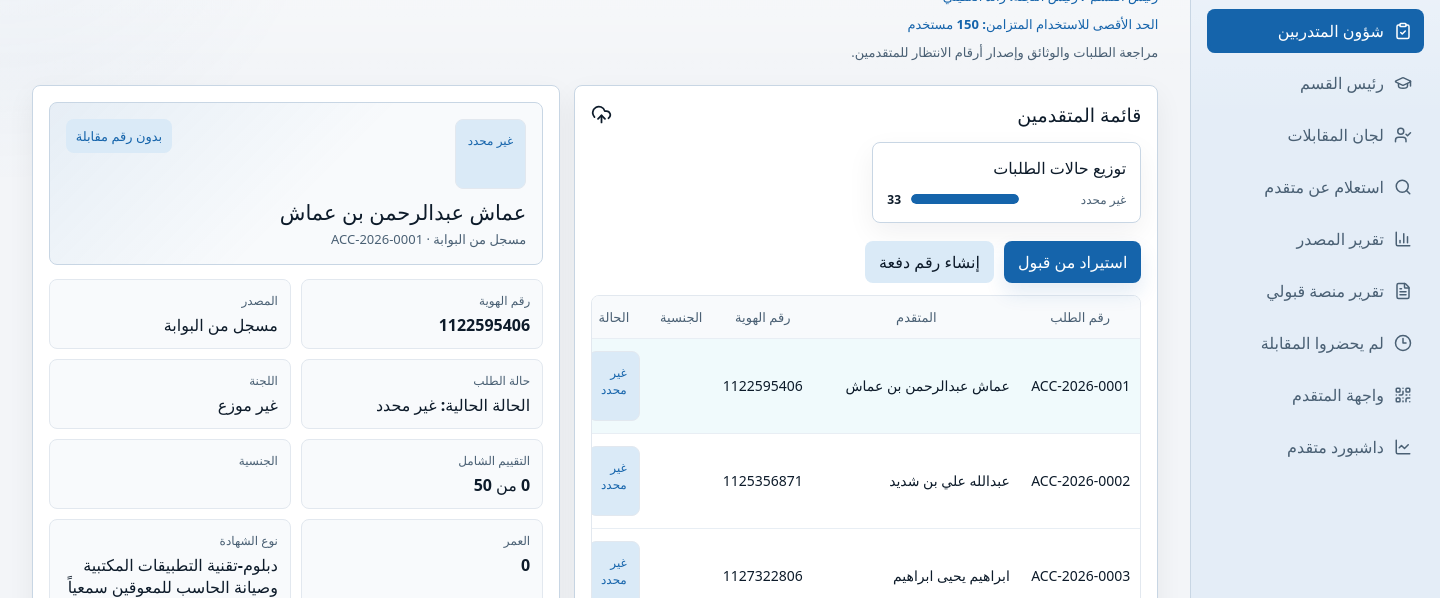
Test case: Interview management system › lets the committee edit applicant data before approving
Click the button "لجان المقابلات" at (1316, 135), box [1207,113,1424,157]
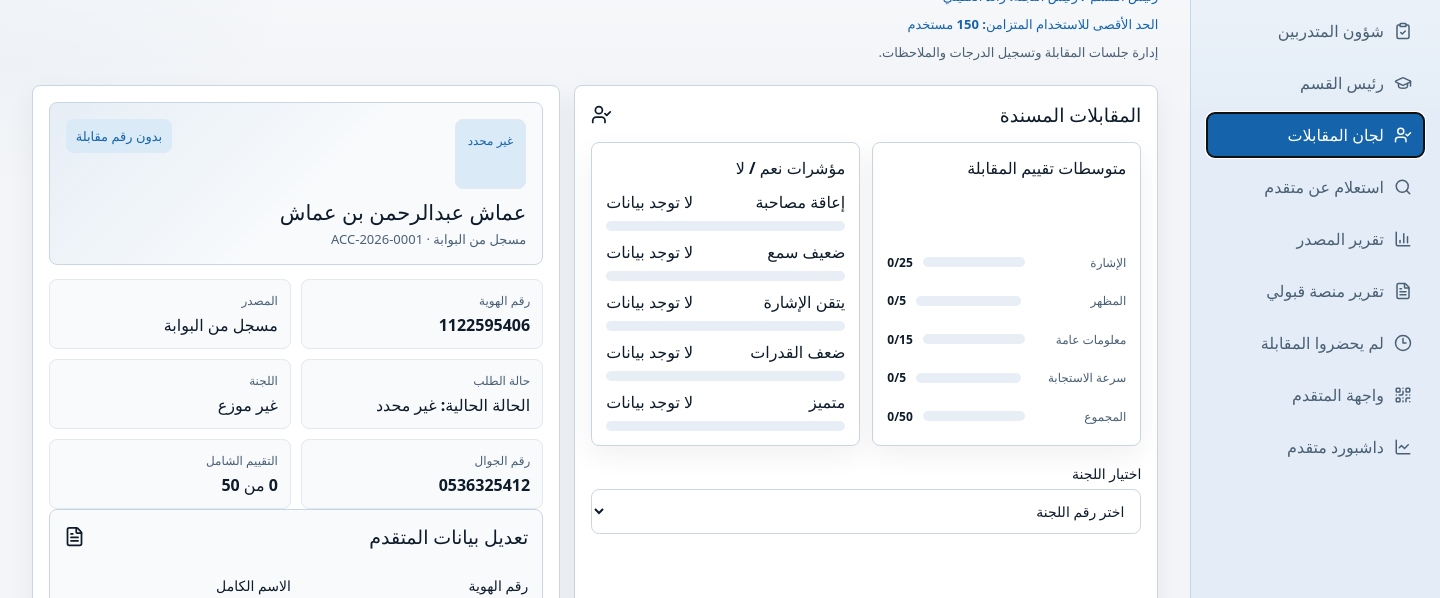
Select "لجنة 1" in the dropdown named "اختيار اللجنة في المقابلات" at (866, 511), box [591,489,1141,534]
(page scrolled)
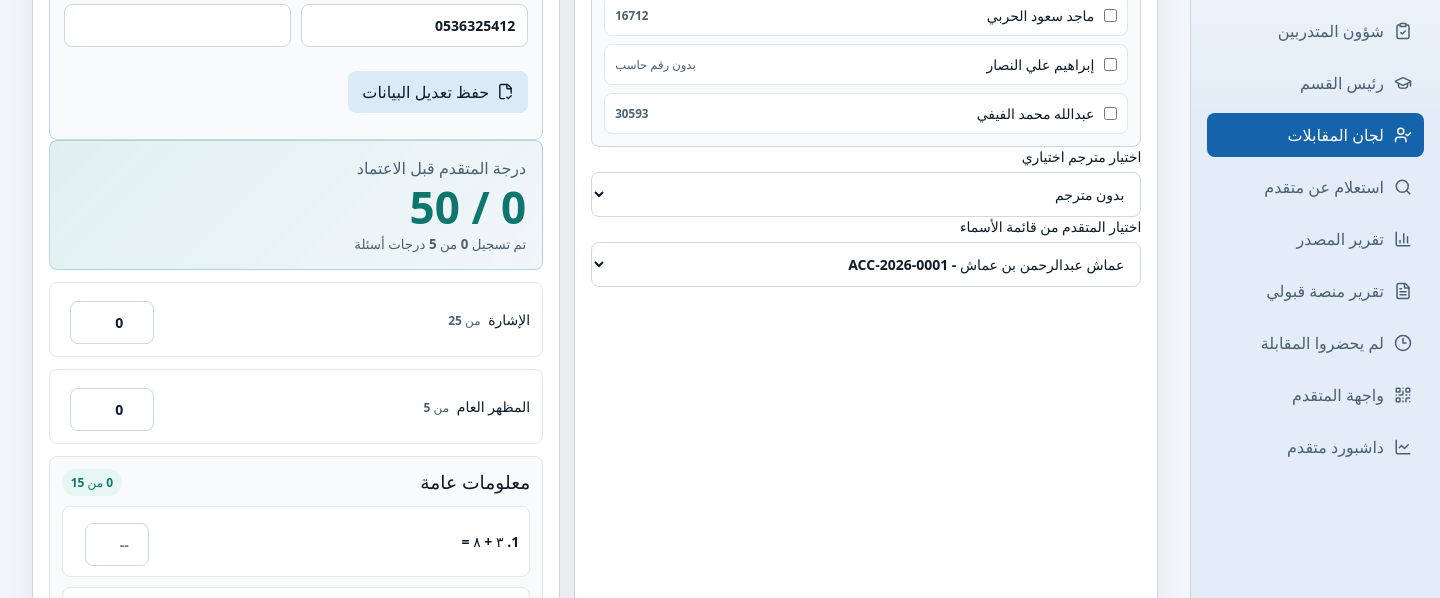
Select "عبدالله محمد الزهراني - W-014" in the dropdown named "اختيار المتقدم للمقابلة" at (866, 264), box [591,242,1141,287]
(page scrolled)
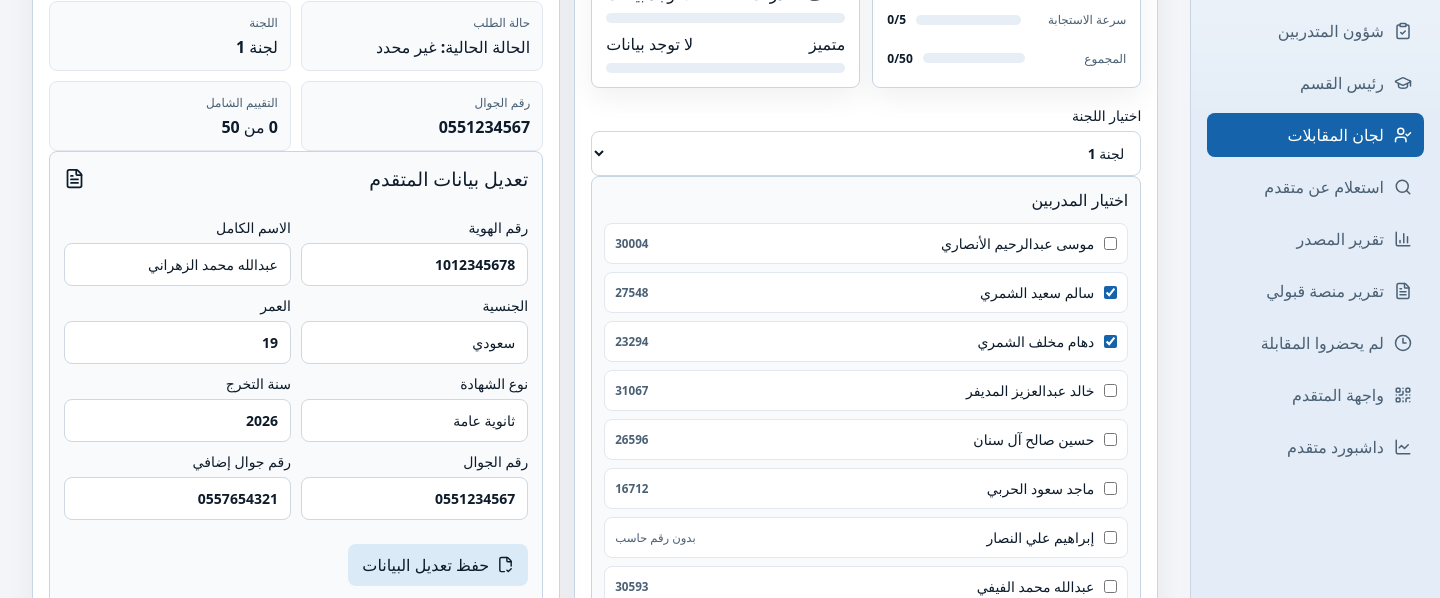
Replace the text in the field labelled "الاسم الكامل" with "عبدالله محمد الزهراني المعدل" at (177, 264), box [64,243,291,286]
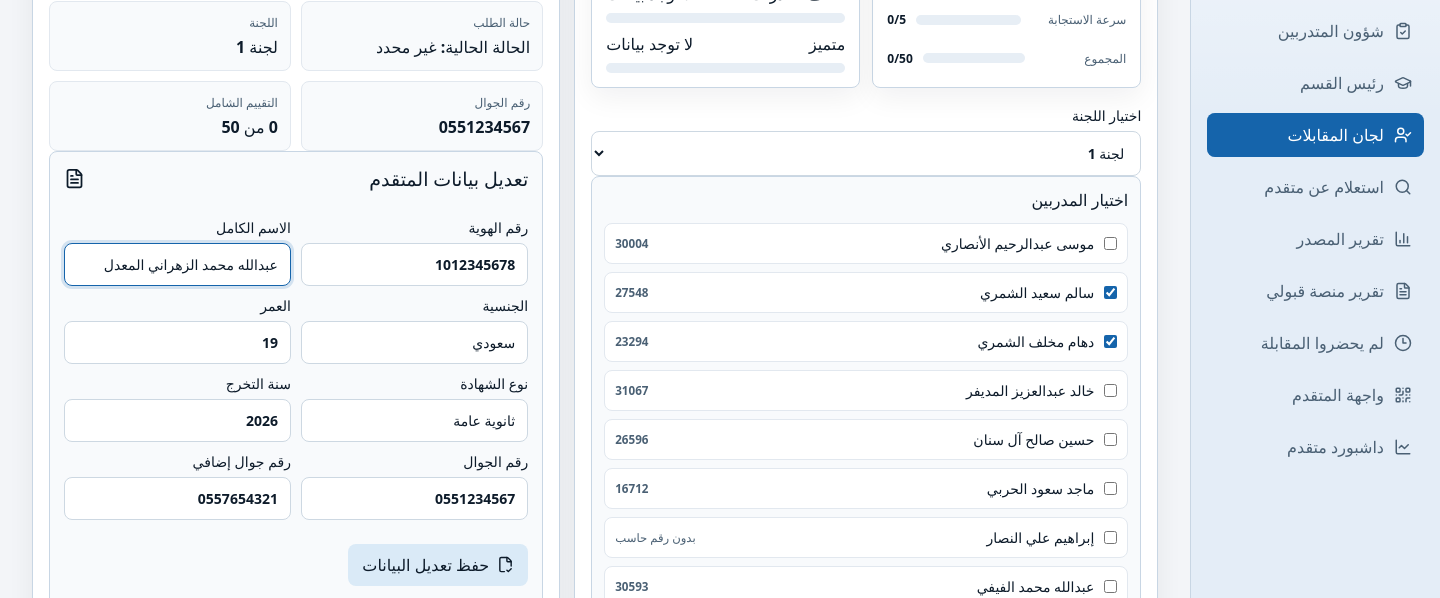
Replace the text in the field labelled "رقم الجوال" with "0550001111" at (415, 498), box [301,477,528,520]
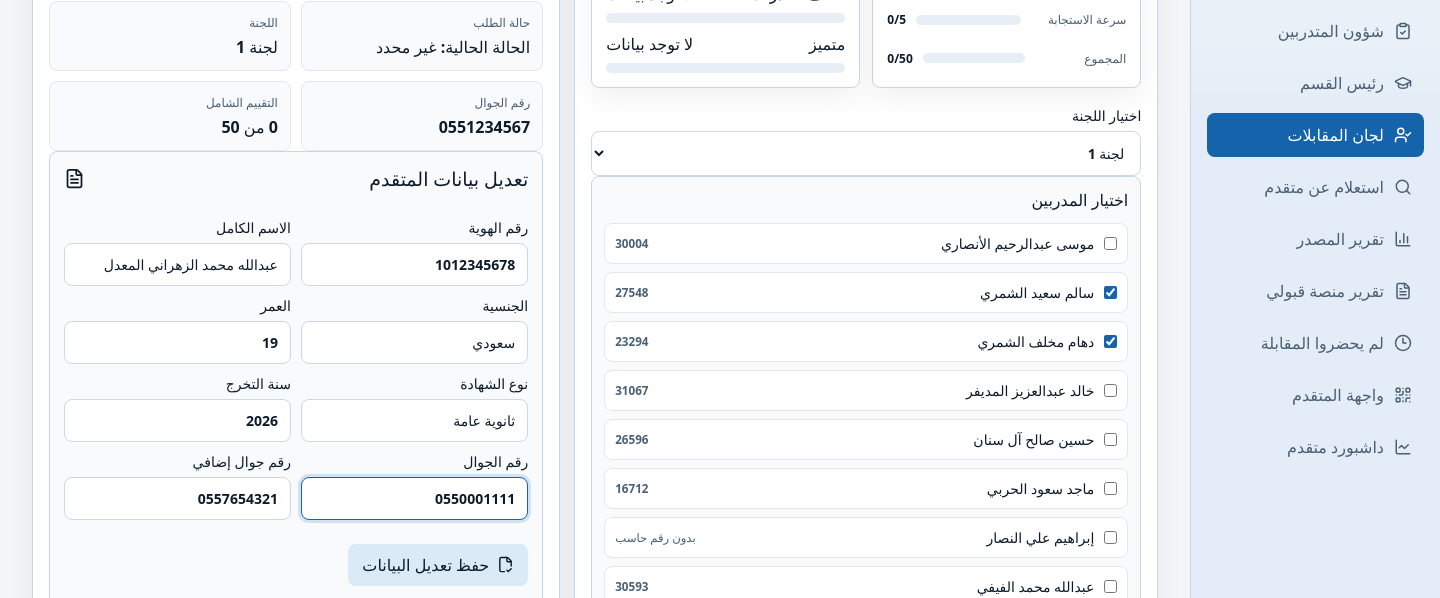
Click the button "حفظ تعديل البيانات" at (438, 565), box [348,544,528,586]
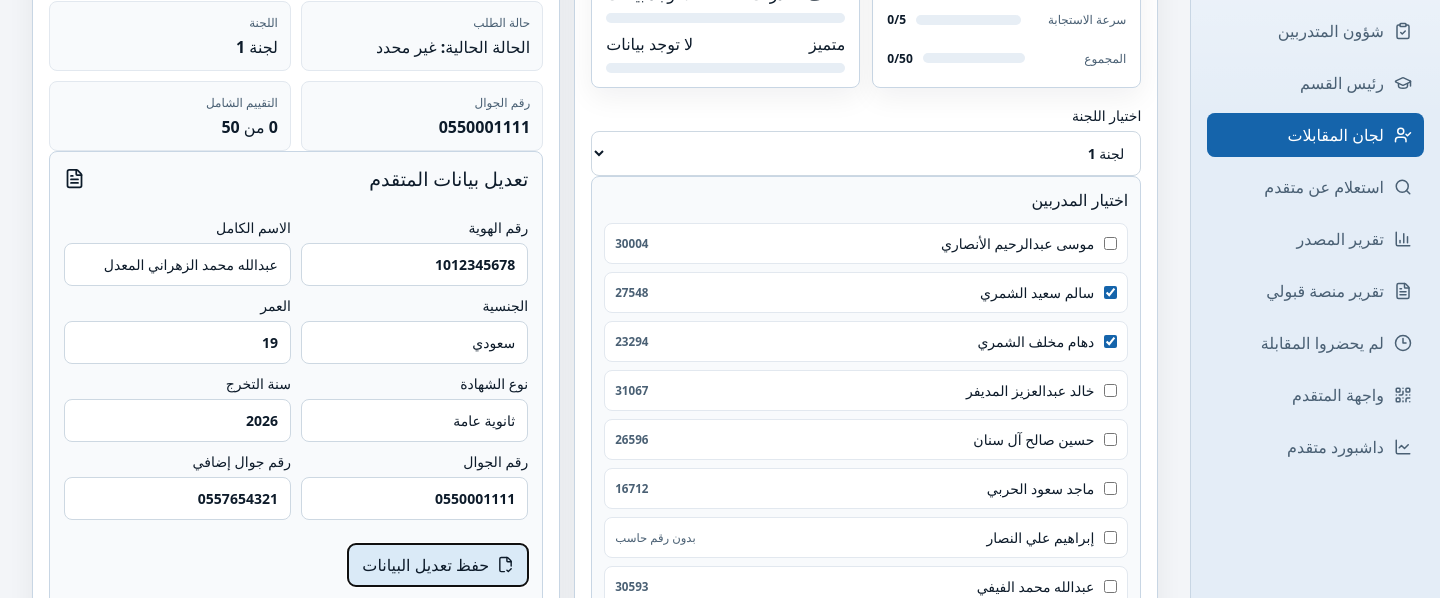
Expected: the text "0550001111" is shown, [439,116,530,138]
